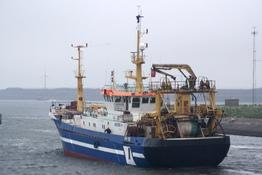otherboat: (46, 5, 233, 169)
